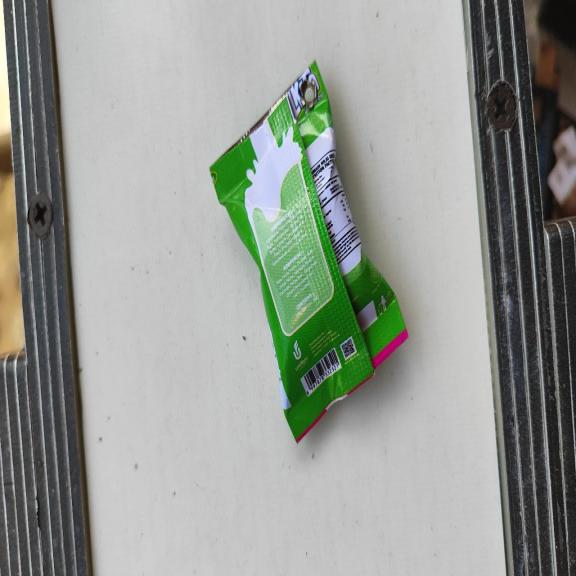Plastik: (209, 59, 411, 447)
